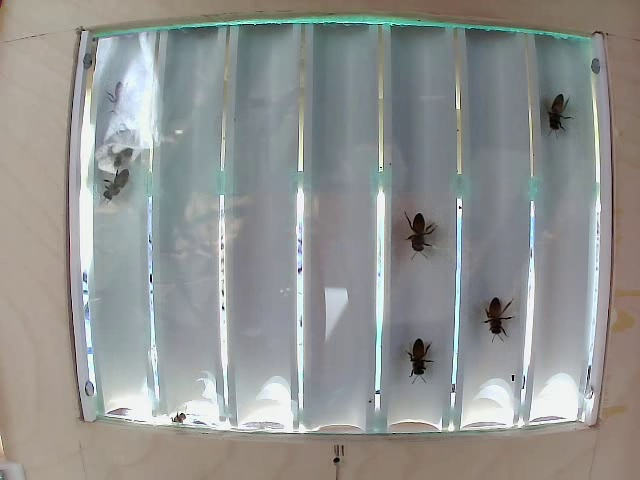bee: (397, 203, 440, 265), (474, 293, 514, 346), (101, 80, 148, 115), (402, 336, 429, 381), (544, 83, 568, 133), (100, 174, 135, 207), (101, 125, 141, 153)
